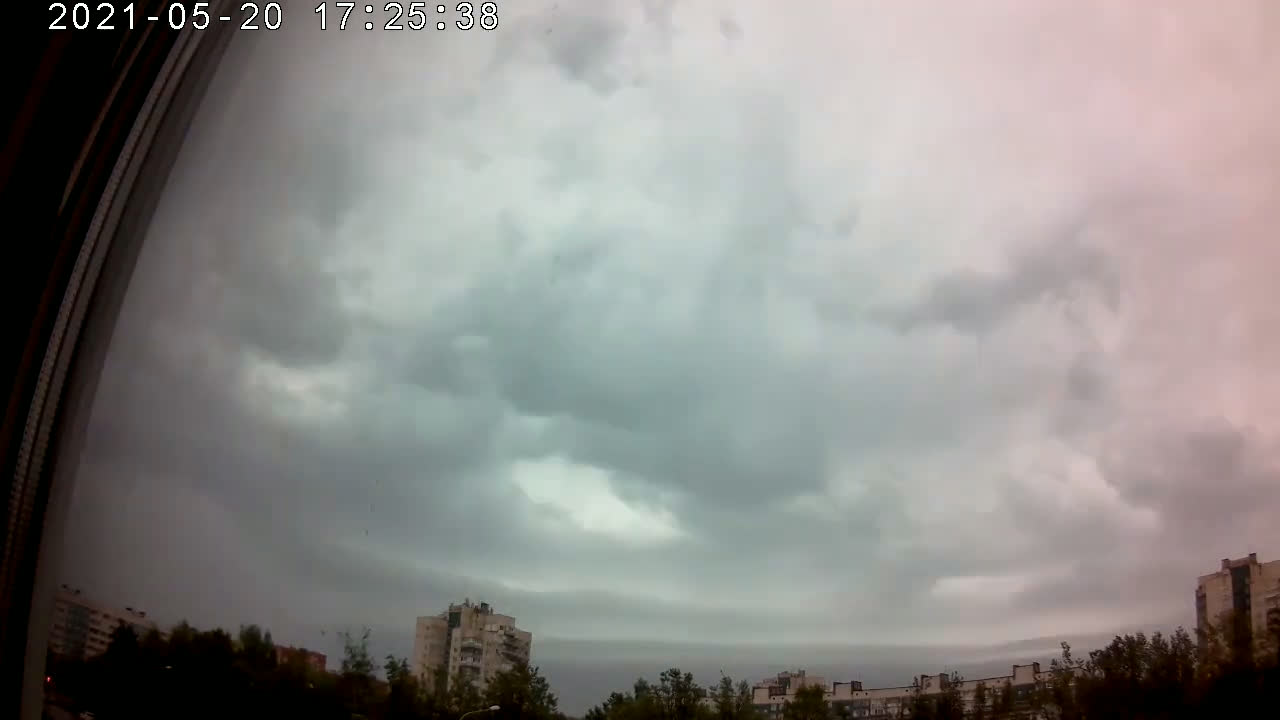mesocyclone: (360, 608, 1185, 670)
striations: (374, 568, 1181, 673)
